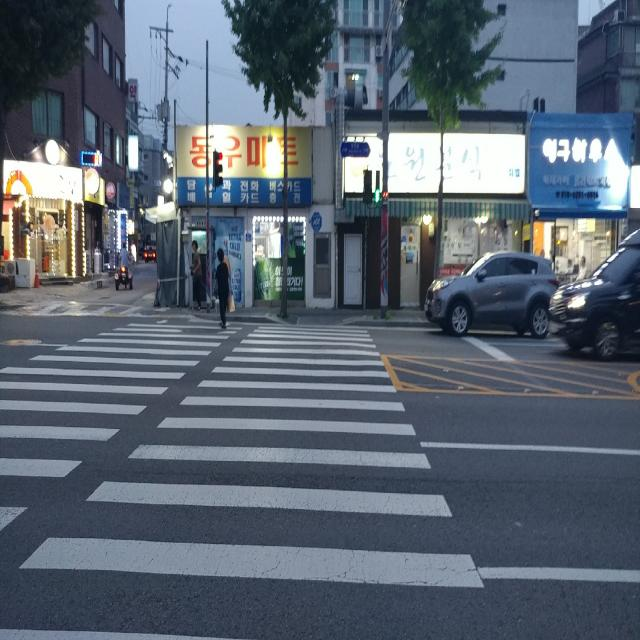초록불: (366, 172, 380, 202)
횡단보도: (0, 317, 486, 640)
